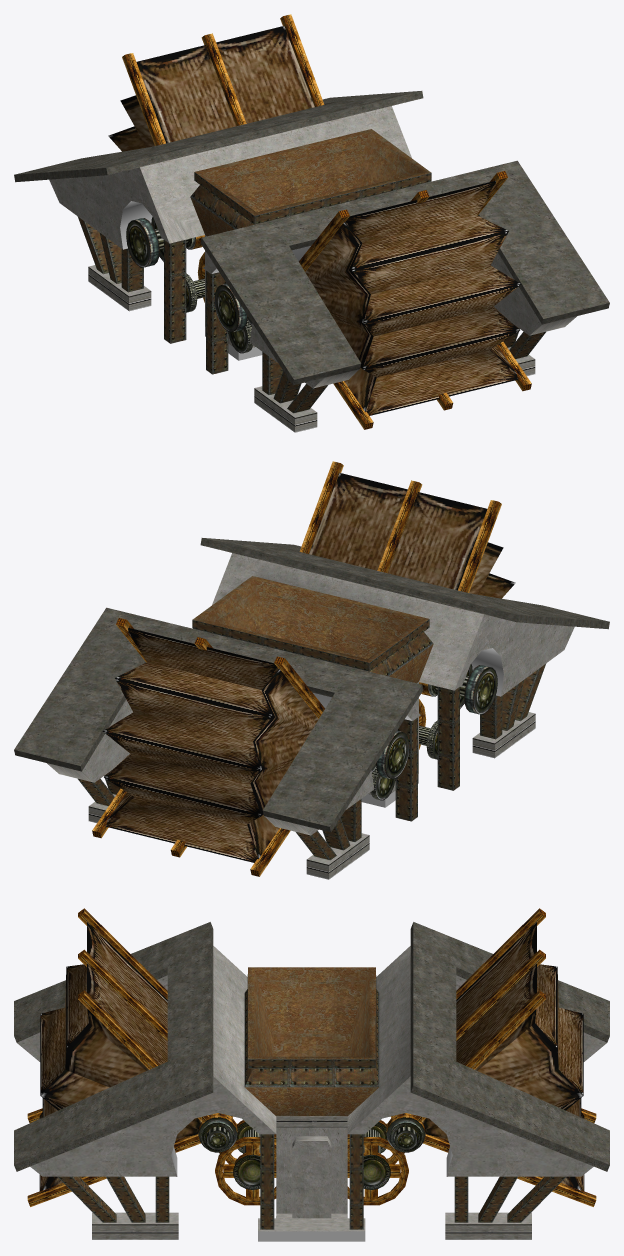
File: FORGE_BILLOWS.obj
3 views of the same model, one above another, from view 1: azimuth 30°, elevation 25°; view 2: azimuth 150°, elevation 25°; view 3: azimuth 270°, elevation 25° (orthographic). The views are drawn at different scales.
Parts seen in each view (by area): view 1: llows_structure, Forge_billows04, Forge_billows12, Forge_billows01, Forge_billows11, Forge_billows09, Forge_billows10, Forge_billows08, Forge_billows03, Forge_billows07; view 2: llows_structure, Forge_billows01, Forge_billows08, Forge_billows04, Forge_billows07, Forge_billows05, Forge_billows06, Forge_billows12, Forge_billows02, Forge_billows11; view 3: llows_structure, Forge_billows01, Forge_billows04, Forge_billows08, Forge_billows12, Forge_billows07, Forge_billows11, Forge_billows02, Forge_billows03, Forge_billows05, Forge_billows09.
Boxes of the visible parts, left/top/right/bottom form: llows_structure: left=14, top=91, right=609, bottom=432; Forge_billows04: left=122, top=14, right=324, bottom=267; Forge_billows12: left=307, top=215, right=508, bottom=294; Forge_billows01: left=214, top=171, right=507, bottom=332; Forge_billows11: left=319, top=265, right=521, bottom=336; Forge_billows09: left=333, top=341, right=531, bottom=429; Forge_billows10: left=334, top=306, right=519, bottom=377; Forge_billows08: left=120, top=95, right=154, bottom=147; Forge_billows03: left=186, top=252, right=204, bottom=312; Forge_billows07: left=108, top=126, right=146, bottom=151; llows_structure: left=14, top=538, right=609, bottom=879; Forge_billows01: left=299, top=461, right=501, bottom=714; Forge_billows08: left=115, top=662, right=316, bottom=741; Forge_billows04: left=116, top=618, right=409, bottom=779; Forge_billows07: left=102, top=712, right=304, bottom=783; Forge_billows05: left=92, top=788, right=290, bottom=876; Forge_billows06: left=104, top=753, right=289, bottom=824; Forge_billows12: left=469, top=542, right=503, bottom=594; Forge_billows02: left=419, top=699, right=437, bottom=759; Forge_billows11: left=477, top=573, right=515, bottom=598; llows_structure: left=14, top=922, right=609, bottom=1241; Forge_billows01: left=78, top=908, right=237, bottom=1152; Forge_billows04: left=386, top=908, right=545, bottom=1152; Forge_billows08: left=422, top=964, right=558, bottom=1123; Forge_billows12: left=65, top=964, right=201, bottom=1123; Forge_billows07: left=423, top=1007, right=583, bottom=1129; Forge_billows11: left=40, top=1007, right=200, bottom=1129; Forge_billows02: left=215, top=1116, right=276, bottom=1205; Forge_billows03: left=347, top=1116, right=408, bottom=1205; Forge_billows05: left=423, top=1108, right=596, bottom=1206; Forge_billows09: left=27, top=1108, right=200, bottom=1206.
Bounding box in the file's own units: 769 × 498 × 1181.
